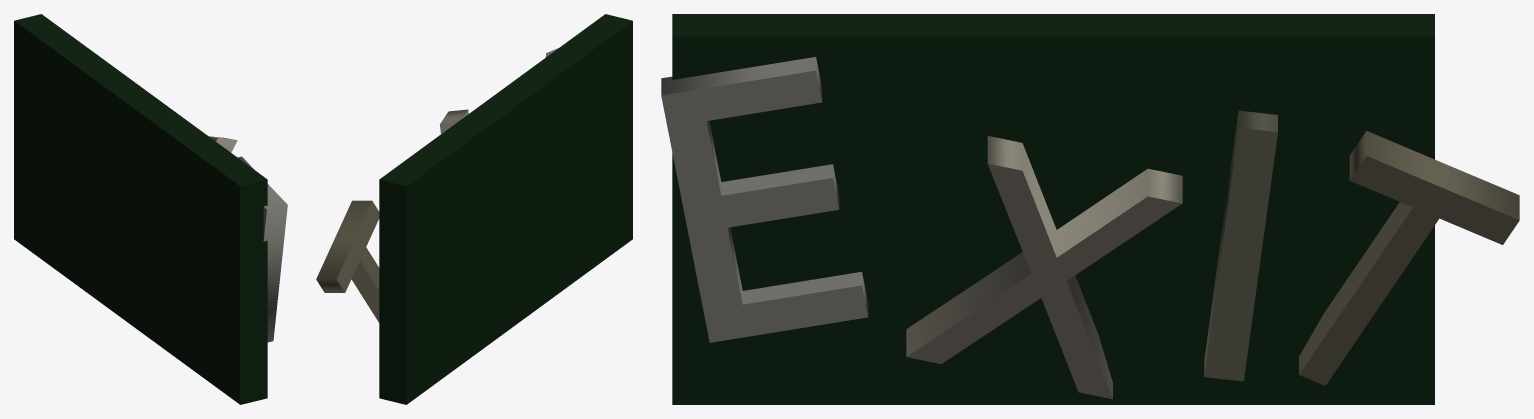
File: exit_sign.fbx
3 views of the same model, side by side, from view 1: azimuth 30°, elevation 25°; view 2: azimuth 150°, elevation 25°; view 3: azimuth 270°, elevation 25° (orthographic). The views are drawn at different scales.
Visible parts, largest first — view 1: Text.003; view 2: Text.003; view 3: Text.003.
Boxes of the visible parts, x1,y1,x2,y2 form: Text.003: (14,14,287,404); Text.003: (316,14,632,404); Text.003: (661,14,1519,404).
Size of the model in its own units: 30.42 by 70 by 148.
